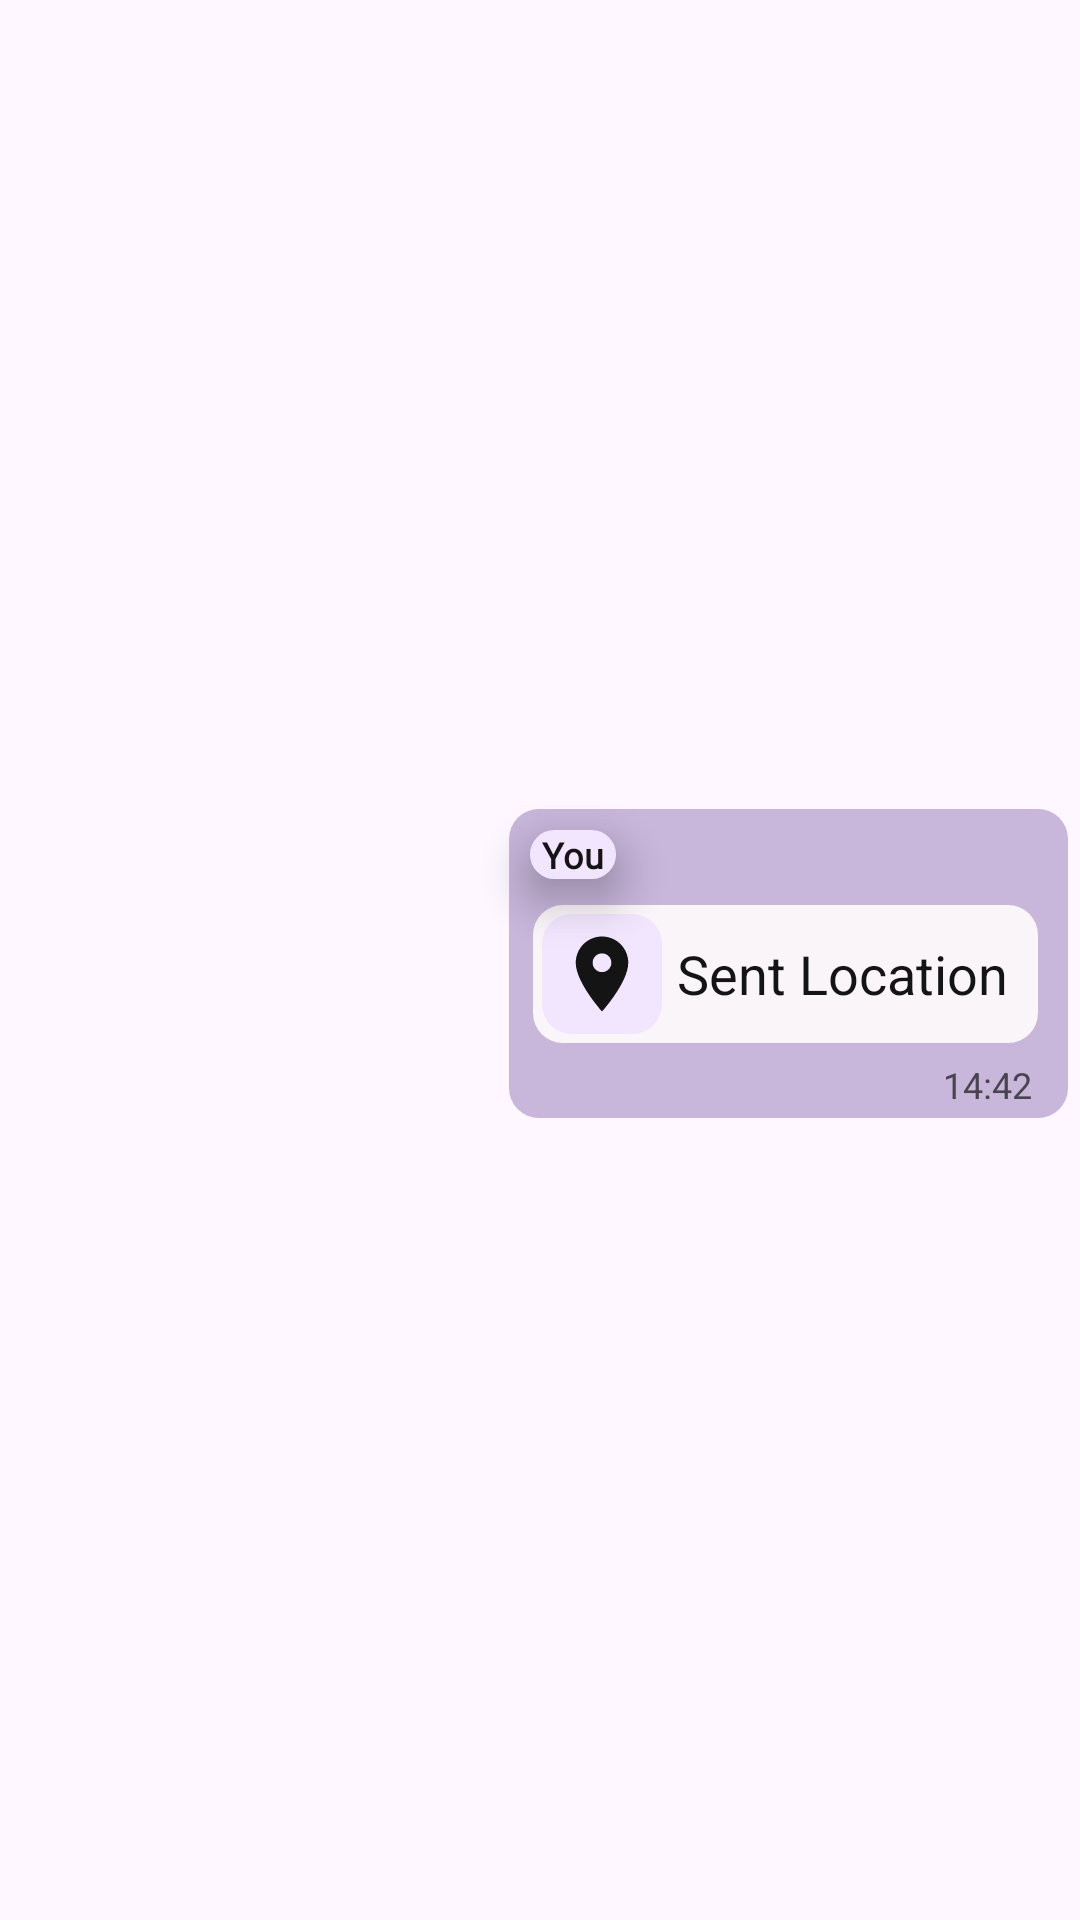

Icon click points for this 1080w x 1920h phone screenshot, format (x=x, y=y):
location on: (x=602, y=974)
